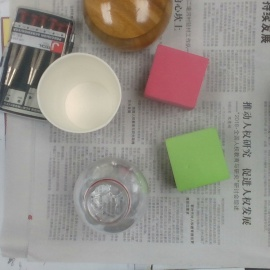bottle: (73, 156, 149, 235)
chess: (81, 1, 173, 50)
cup: (36, 52, 122, 135)
